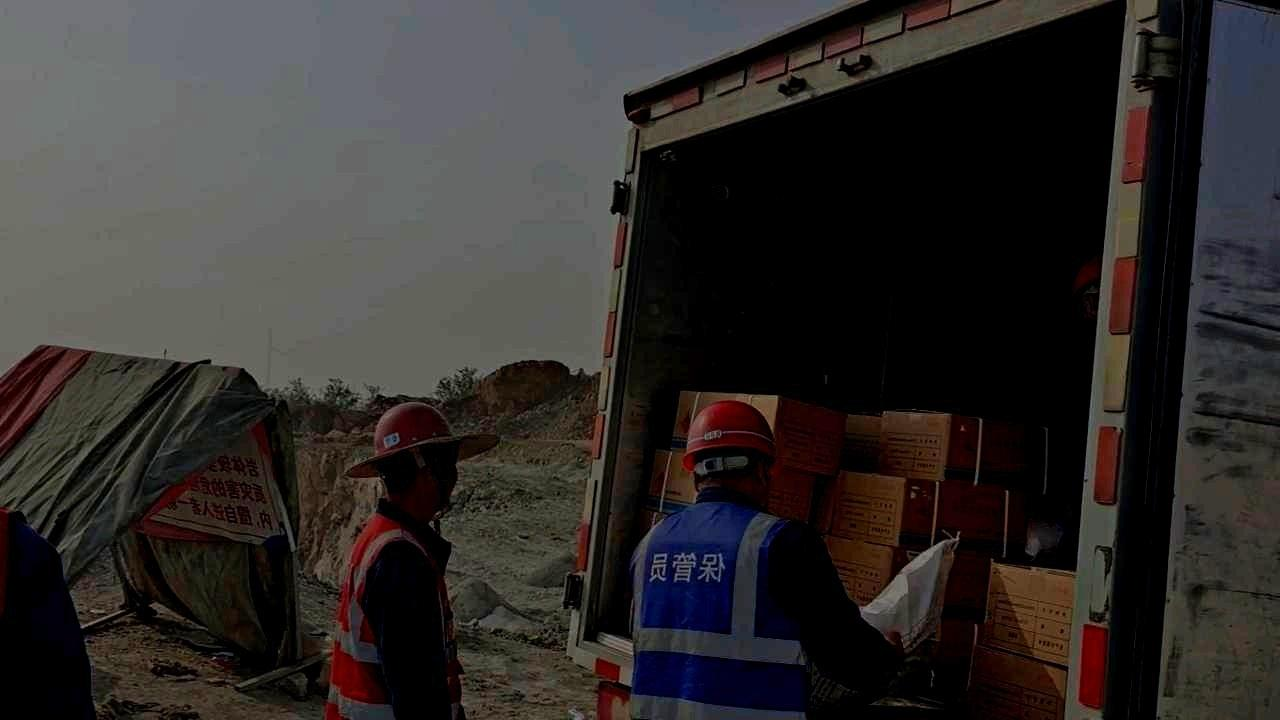helmet: (680, 398, 777, 502), (373, 401, 458, 510)
